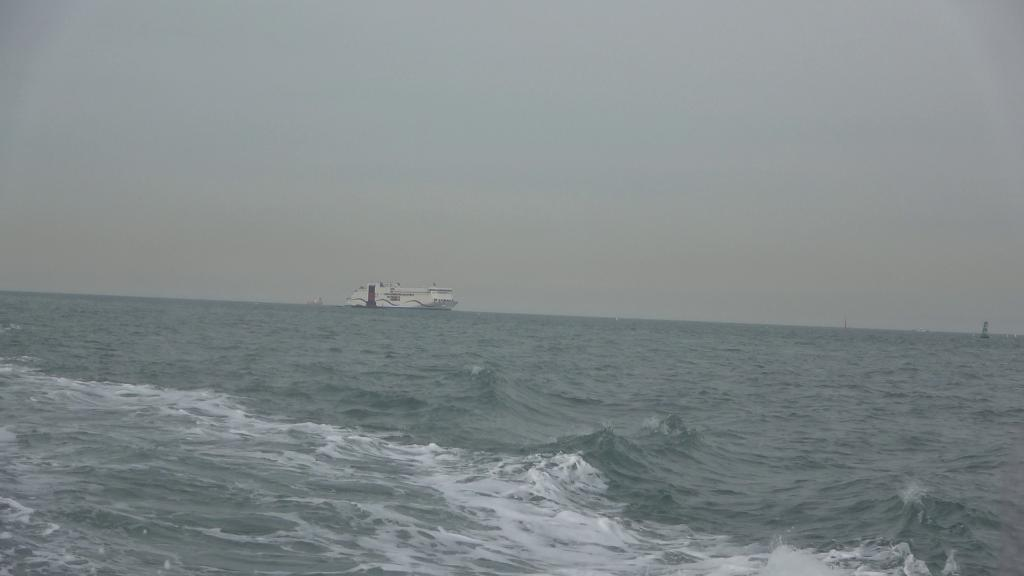PassengerShip: (344, 284, 462, 313)
